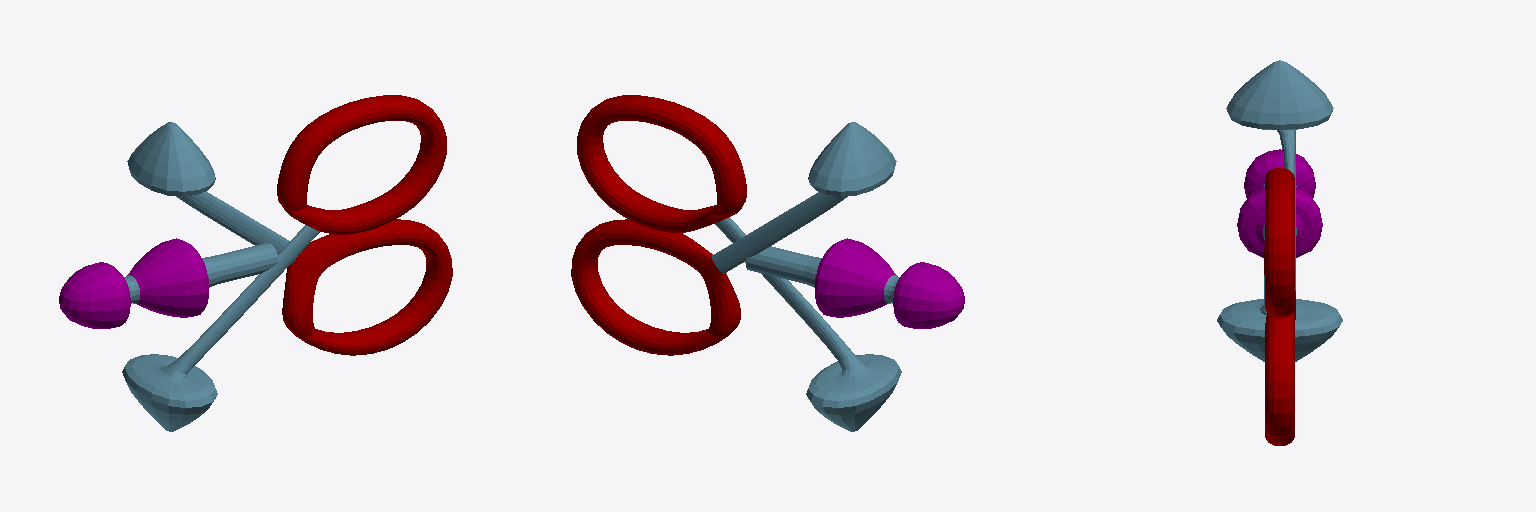
The model's file is key.obj.
3 views of the same model, side by side, from view 1: azimuth 30°, elevation 25°; view 2: azimuth 150°, elevation 25°; view 3: azimuth 270°, elevation 25° (orthographic).
Parts seen in each view (by area): view 1: Key_Cube.1748; view 2: Key_Cube.1748; view 3: Key_Cube.1748.
Boxes of the visible parts, x1=… form: Key_Cube.1748: x1=59, y1=95, x2=452, y2=431; Key_Cube.1748: x1=571, y1=95, x2=964, y2=431; Key_Cube.1748: x1=1217, y1=60, x2=1342, y2=445.
Size of the model in its own units: 1.65 by 1.26 by 0.4662.